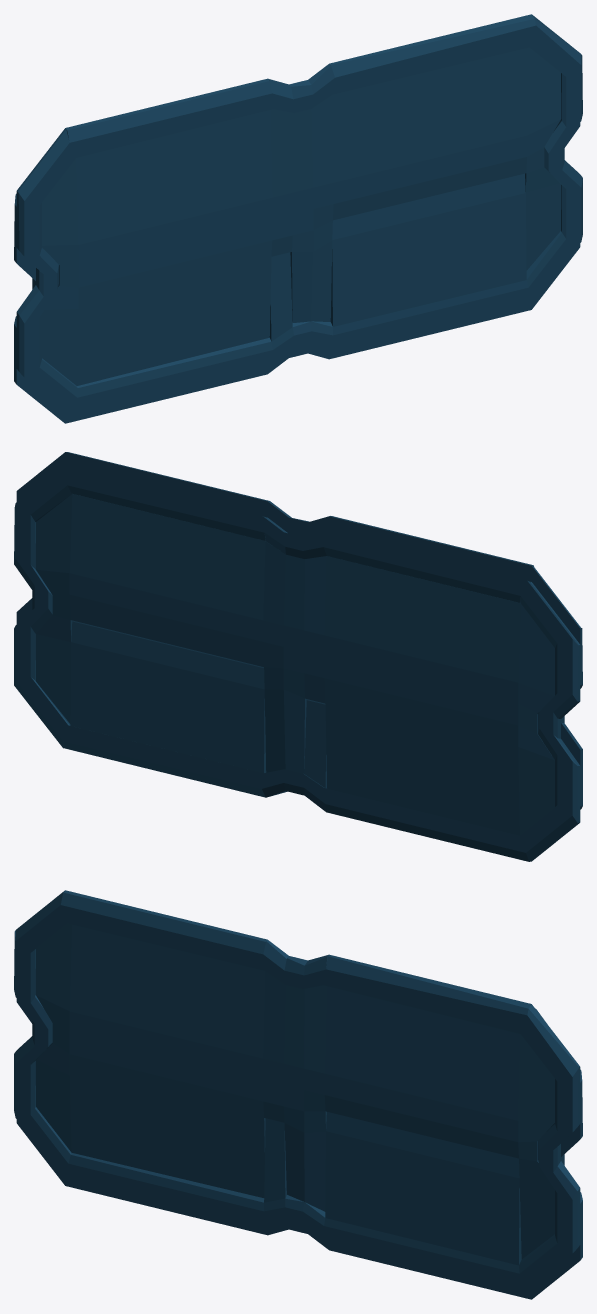
The model's file is Access card.fbx.
3 views of the same model, one above another, from view 1: azimuth 30°, elevation 25°; view 2: azimuth 150°, elevation 25°; view 3: azimuth 330°, elevation 25° (orthographic).
Parts seen in each view (by area): view 1: Plane; view 2: Plane; view 3: Plane.
Part boxes in pixels (box(x1,y1,x2,y2)): Plane: box(14, 14, 582, 423); Plane: box(14, 452, 582, 861); Plane: box(14, 890, 582, 1299).
Bounding box in the file's own units: 1.83 × 0.9164 × 0.05.
